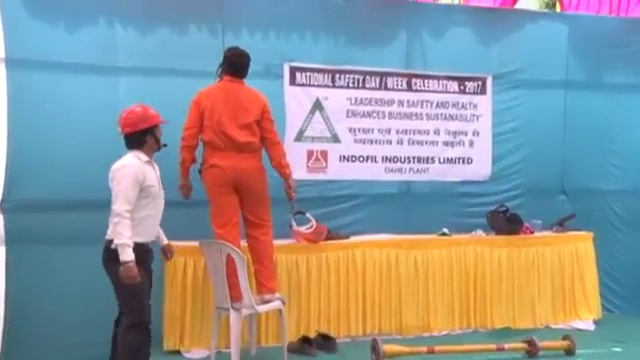helmet: (116, 103, 168, 136)
helmet_off: (214, 43, 252, 83)
helmet_on: (114, 102, 170, 159)
person: (173, 42, 299, 300), (93, 100, 180, 360)
